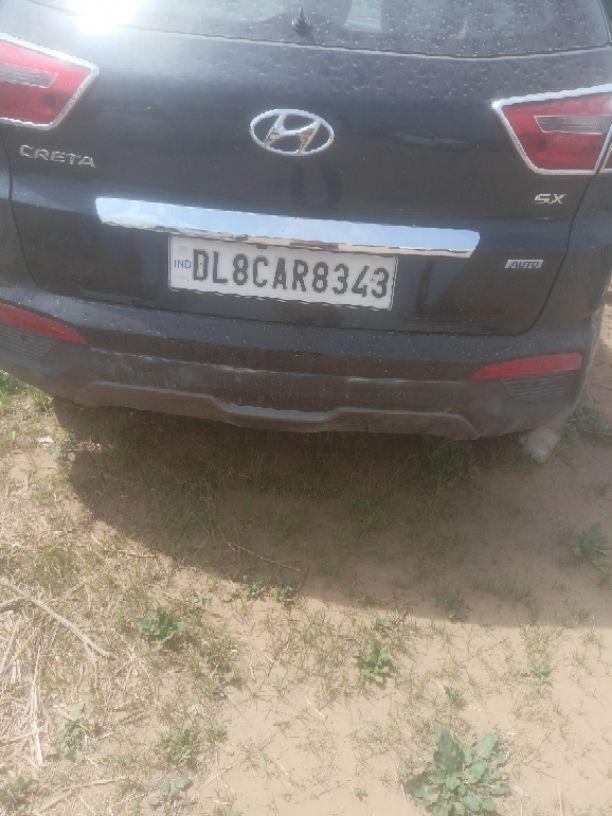license_plate: (166, 232, 399, 312)
